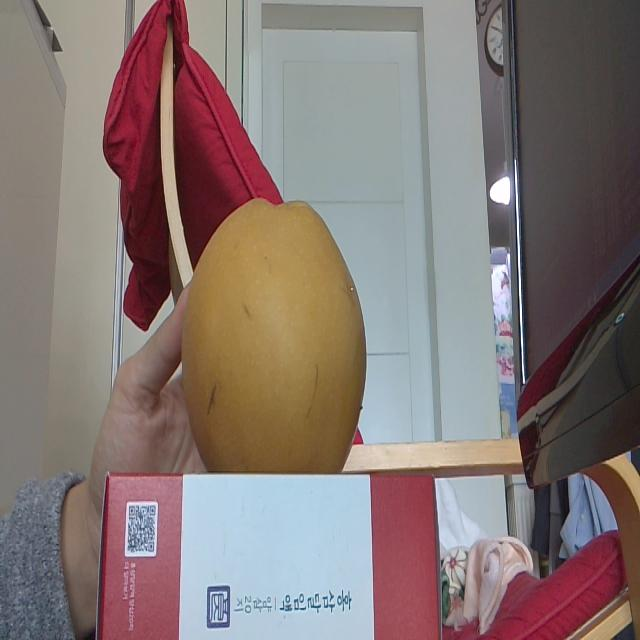pear: (174, 188, 372, 476)
